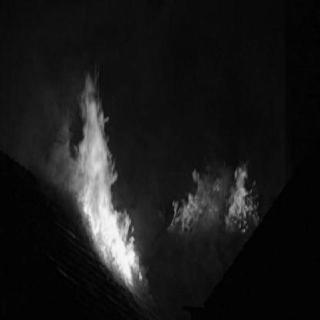Fire: (72, 57, 144, 297), (163, 143, 265, 264)
